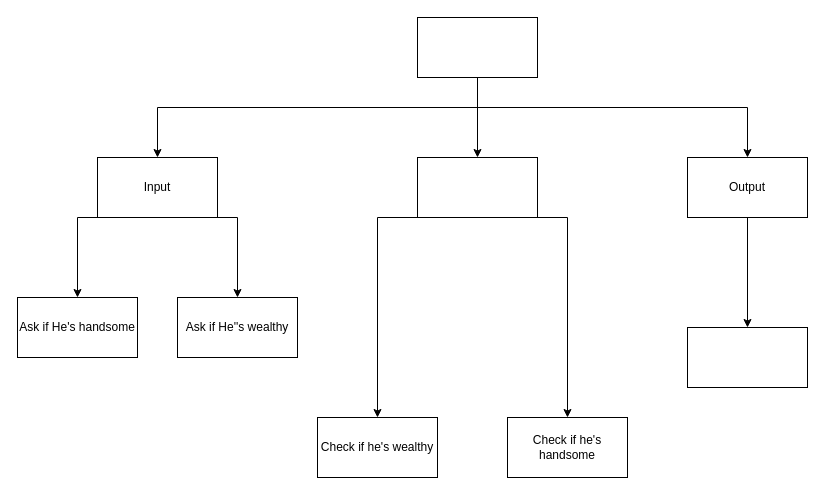
This 825x495 diagram has some shape labels left out. Here are the shapes that lost their labels. From the top down, the centre of each, then its label:
At (477,47): "Grandmother Program".
At (477,187): "Process".
At (747,357): "Show Answer Accordingly".
